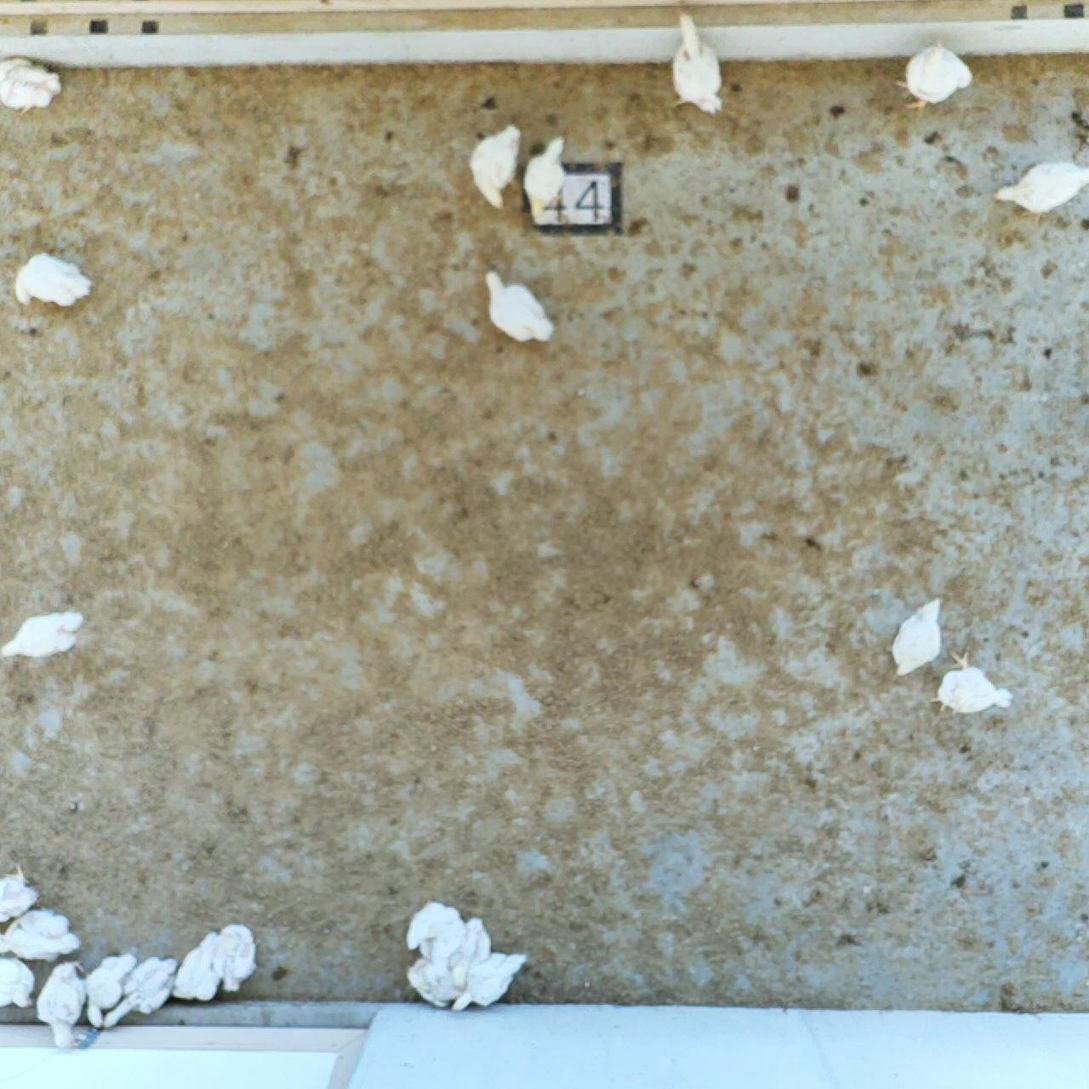chicken: (472, 267, 565, 350), (0, 595, 100, 670), (3, 245, 102, 320), (992, 153, 1089, 221), (101, 949, 178, 1033), (665, 11, 727, 113), (927, 652, 1015, 720), (466, 123, 531, 209), (897, 36, 967, 115), (0, 900, 89, 962), (404, 898, 464, 989), (887, 591, 945, 682), (518, 134, 573, 227), (448, 952, 521, 1013), (83, 951, 134, 1037), (38, 960, 86, 1048), (1, 57, 74, 114), (0, 859, 51, 927), (175, 930, 221, 1003), (452, 915, 495, 991), (213, 919, 254, 992), (406, 961, 466, 1006), (0, 955, 36, 1015)
